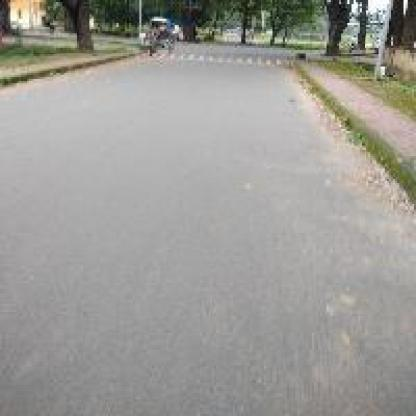Speed Bump: (144, 50, 291, 66)
